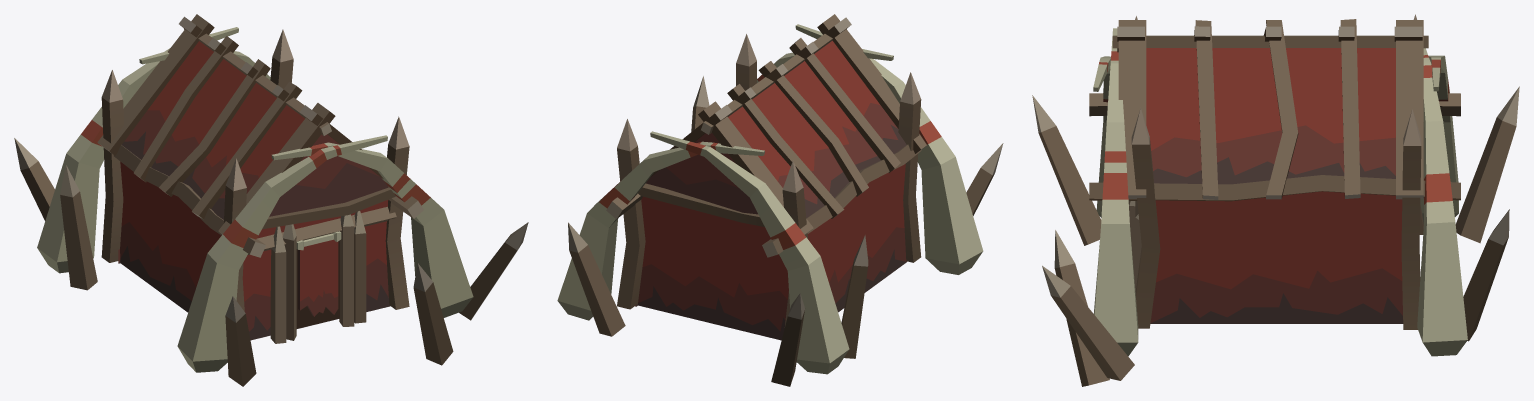
The model's file is SF_Bld_Goblin_House_01.fbx.
The picture shows the model from 3 angles, left to right: view 1: azimuth 30°, elevation 25°; view 2: azimuth 150°, elevation 25°; view 3: azimuth 270°, elevation 25°; orthographic projection. The views are drawn at different scales.
Visible parts, largest first — view 1: SF_Bld_Goblin_House_01; view 2: SF_Bld_Goblin_House_01; view 3: SF_Bld_Goblin_House_01.
Boxes of the visible parts, <box> form: SF_Bld_Goblin_House_01: <box>14,14,528,386</box>; SF_Bld_Goblin_House_01: <box>557,14,1003,386</box>; SF_Bld_Goblin_House_01: <box>1032,14,1519,386</box>.
Size of the model in its own units: 10.14 by 8.09 by 11.64.
